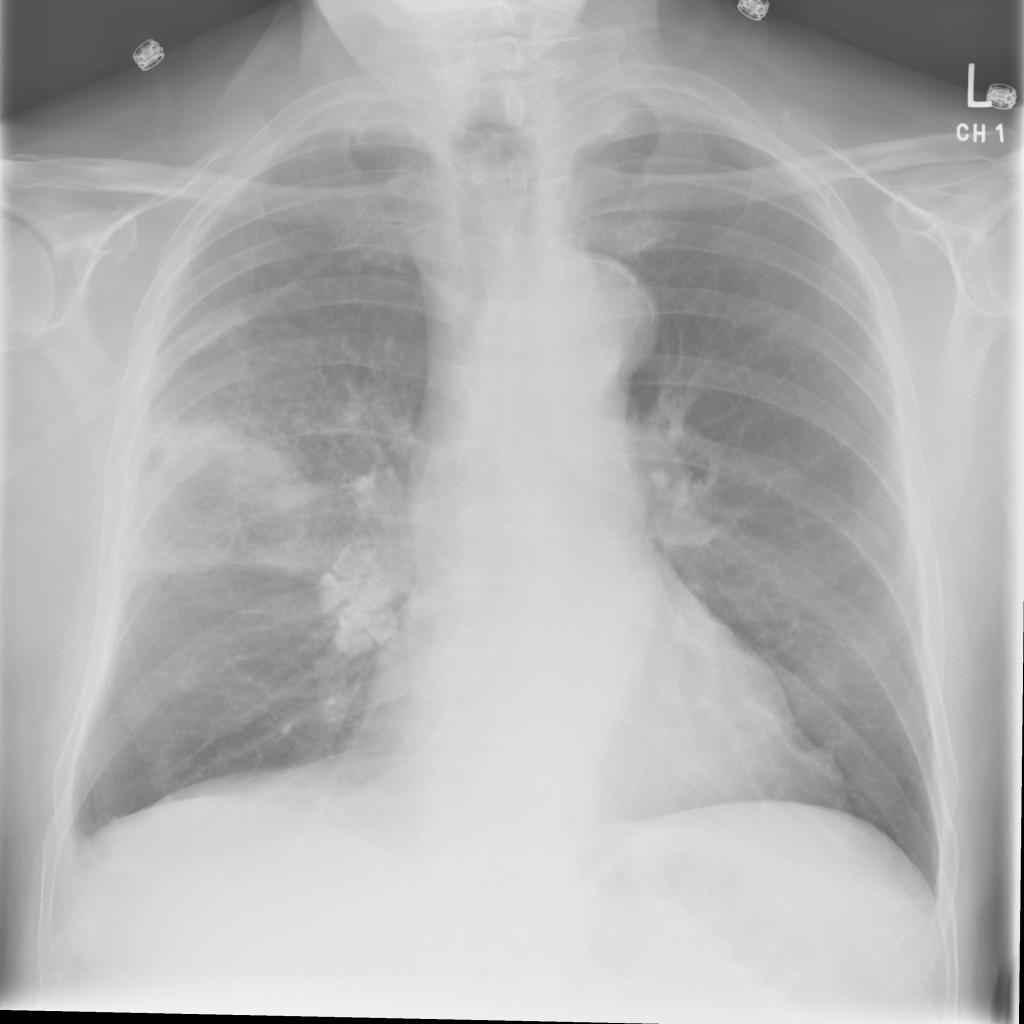Nodule: (48, 82, 70, 101), (59, 114, 76, 130), (61, 100, 74, 115)
